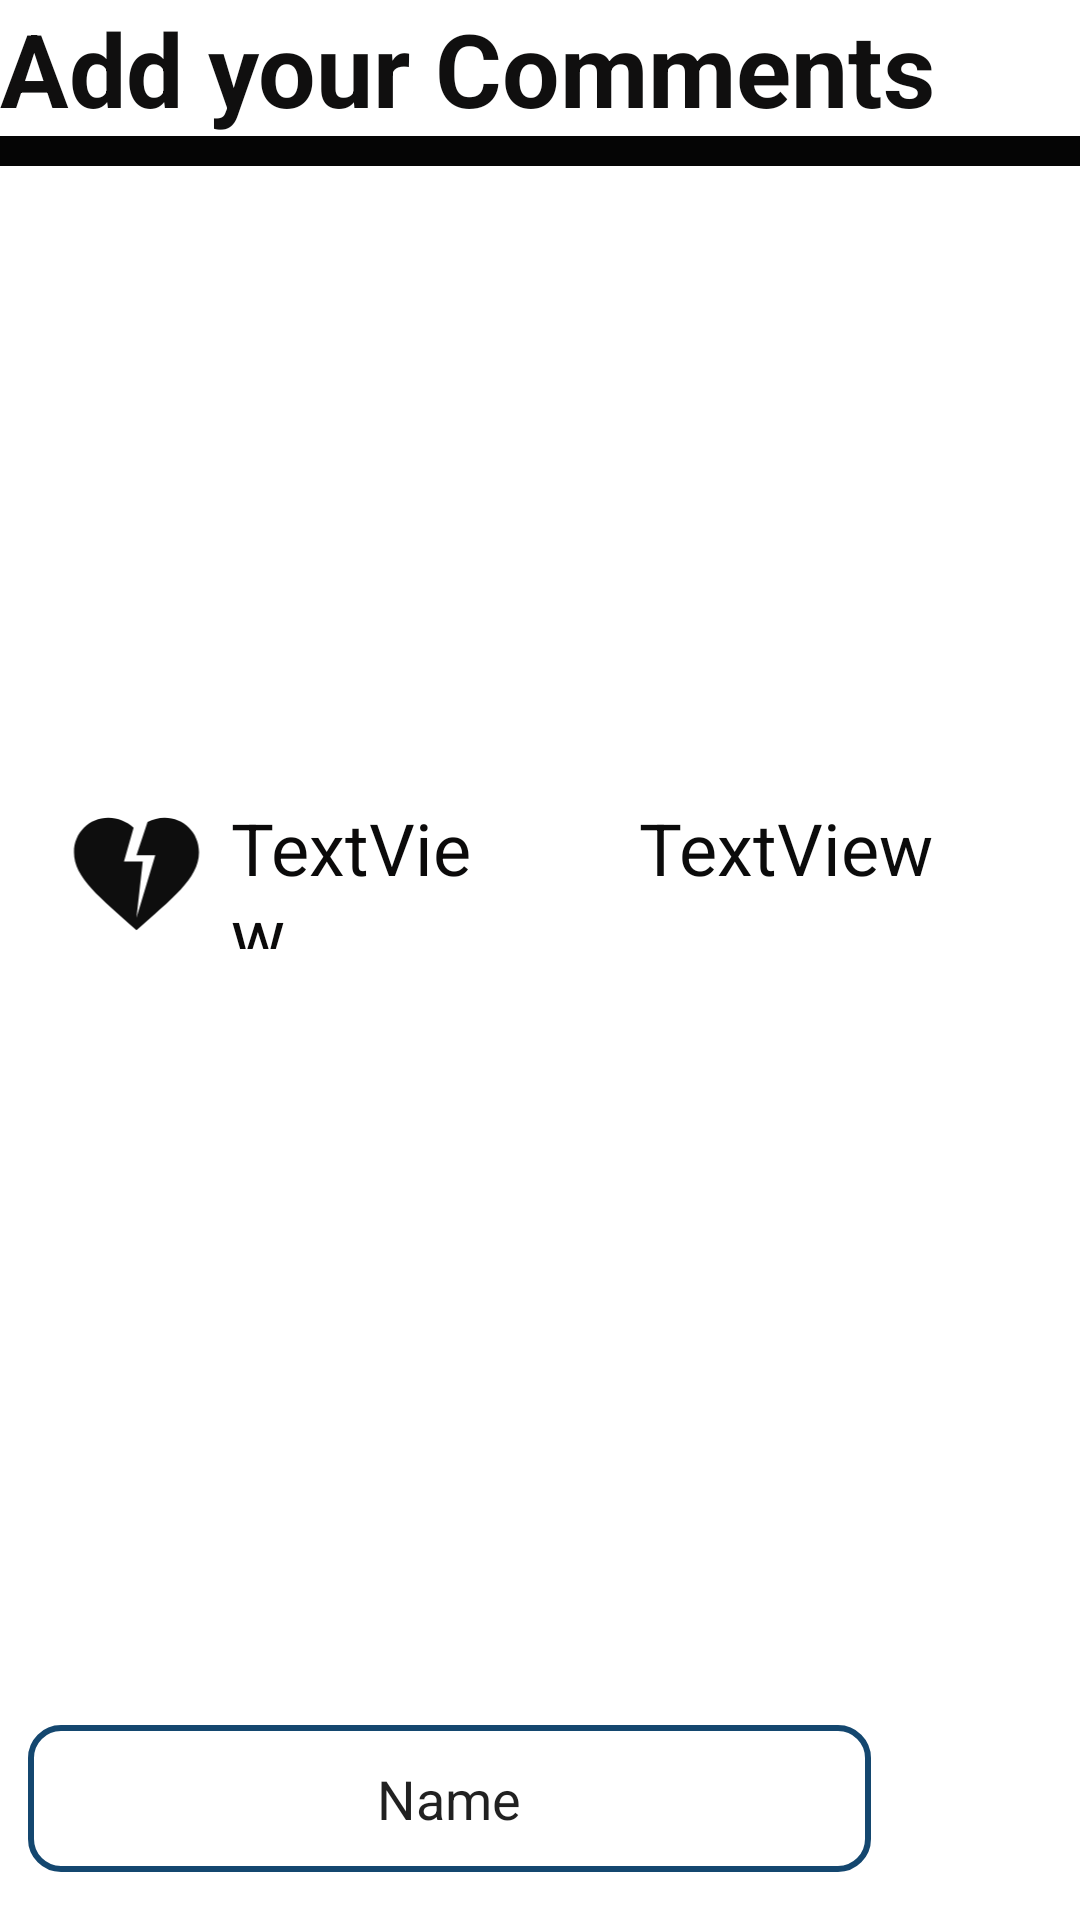

Screen size 1080 × 1920. Icon name, then its center in pixels as (x=x, y=y):
heart broken: (x=136, y=873)
